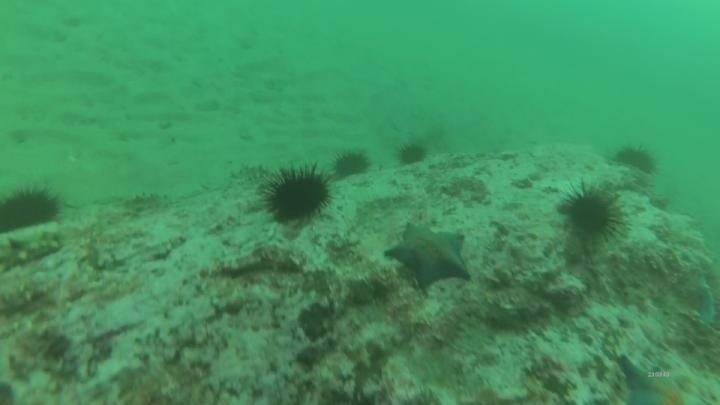echinus: (261, 162, 334, 226), (558, 180, 625, 243), (0, 183, 63, 236), (611, 142, 660, 176), (331, 148, 372, 181), (395, 139, 429, 168)
holothurian: (0, 223, 65, 274), (119, 189, 173, 219), (230, 160, 282, 185)
starfish: (384, 220, 472, 291), (612, 353, 695, 403), (691, 267, 720, 332)
